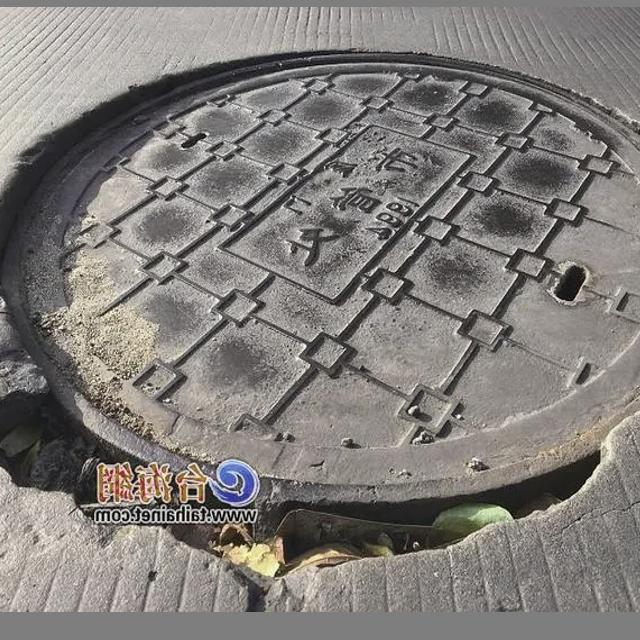circle: (0, 45, 640, 585)
